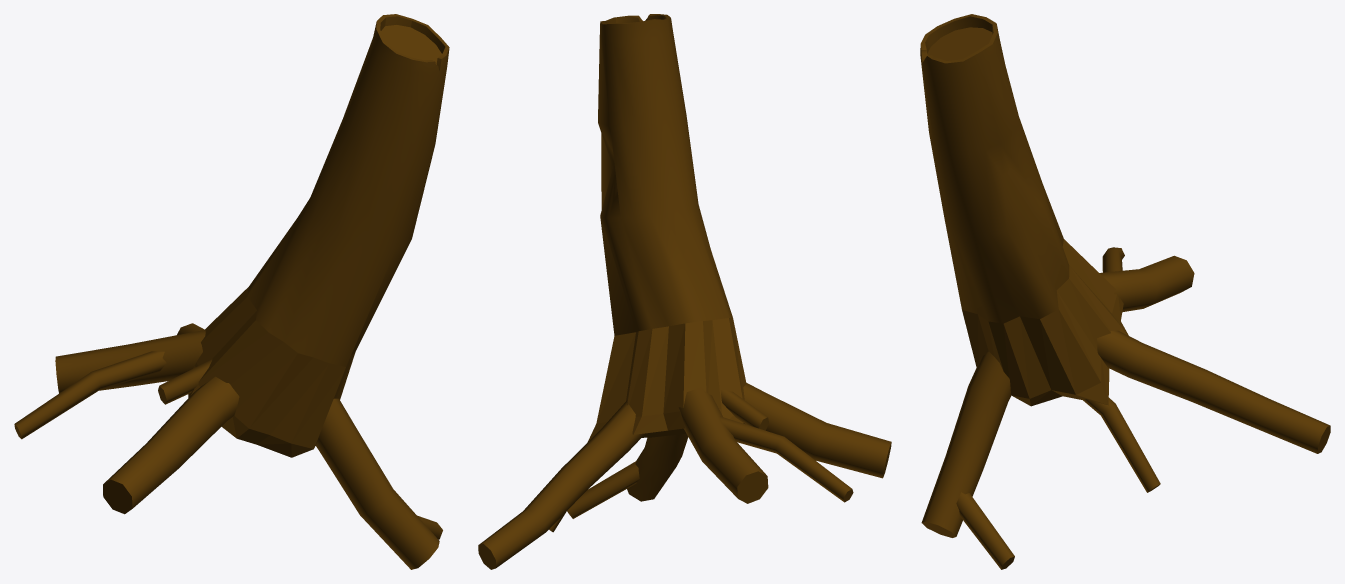
Rendered from arbre horizontal.FBX.
The picture shows the model from 3 angles, left to right: view 1: azimuth 30°, elevation 25°; view 2: azimuth 150°, elevation 25°; view 3: azimuth 270°, elevation 25°; orthographic projection. The views are drawn at different scales.
Parts seen in each view (by area): view 1: Foliage002; view 2: Foliage002; view 3: Foliage002.
Boxes of the visible parts, <box> form: Foliage002: <box>14,14,449,569</box>; Foliage002: <box>478,14,891,569</box>; Foliage002: <box>920,14,1330,569</box>.
Bounding box in the file's own units: 212 × 298 × 213.
